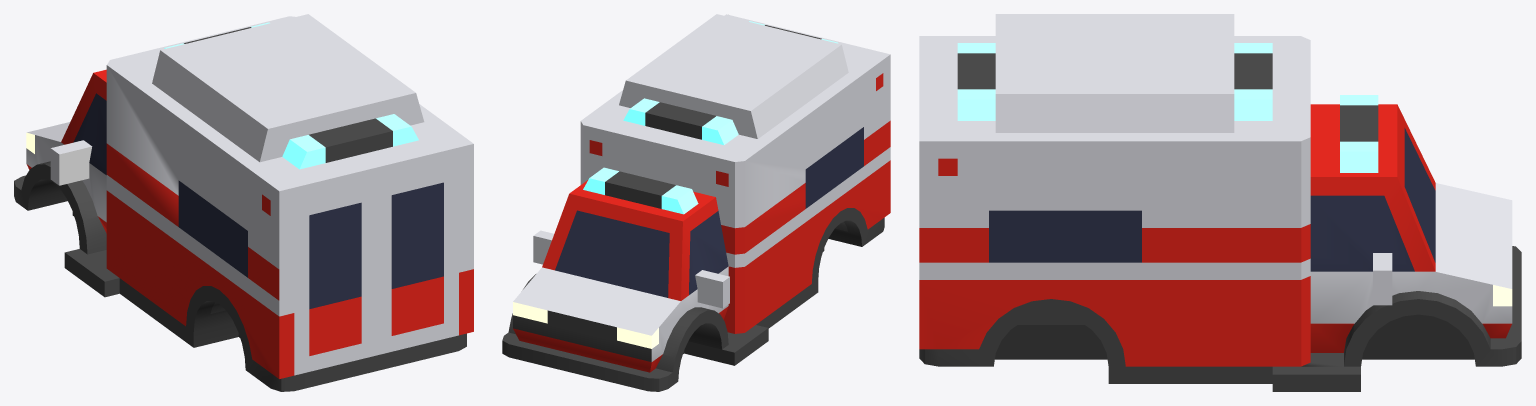
File: SM_Ambulance_Body.fbx
3 renders of one model, left to right at view 1: azimuth 30°, elevation 25°; view 2: azimuth 150°, elevation 25°; view 3: azimuth 270°, elevation 25°, orthographic. The views are drawn at different scales.
Parts seen in each view (by area): view 1: SM_Ambulance_Body; view 2: SM_Ambulance_Body; view 3: SM_Ambulance_Body.
Boxes of the visible parts, x1,y1,x2,y2 form: SM_Ambulance_Body: [14, 14, 473, 391]; SM_Ambulance_Body: [502, 14, 890, 391]; SM_Ambulance_Body: [919, 14, 1521, 391].
Bounding box in the file's own units: 1.5 × 1.6 × 3.15.
